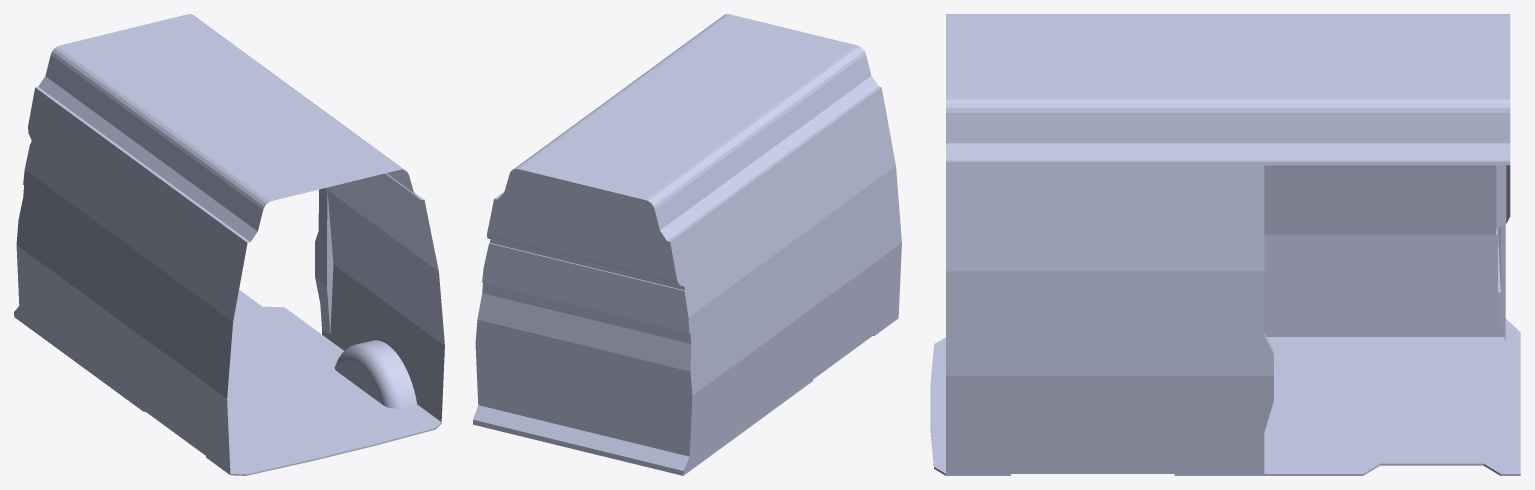
The model's file is IVECO-DL14L2SH3.glb.
3 views of the same model, side by side, from view 1: azimuth 30°, elevation 25°; view 2: azimuth 150°, elevation 25°; view 3: azimuth 270°, elevation 25° (orthographic). The views are drawn at different scales.
Visible parts, largest first — view 1: DL14.L2H3-1; view 2: DL14.L2H3-1; view 3: DL14.L2H3-1.
Part boxes in pixels (x1,y1,x2,y2): DL14.L2H3-1: (14,14,444,475); DL14.L2H3-1: (473,14,901,475); DL14.L2H3-1: (930,14,1520,475).
Size of the model in its own units: 1.81 by 2.1 by 3.2.
